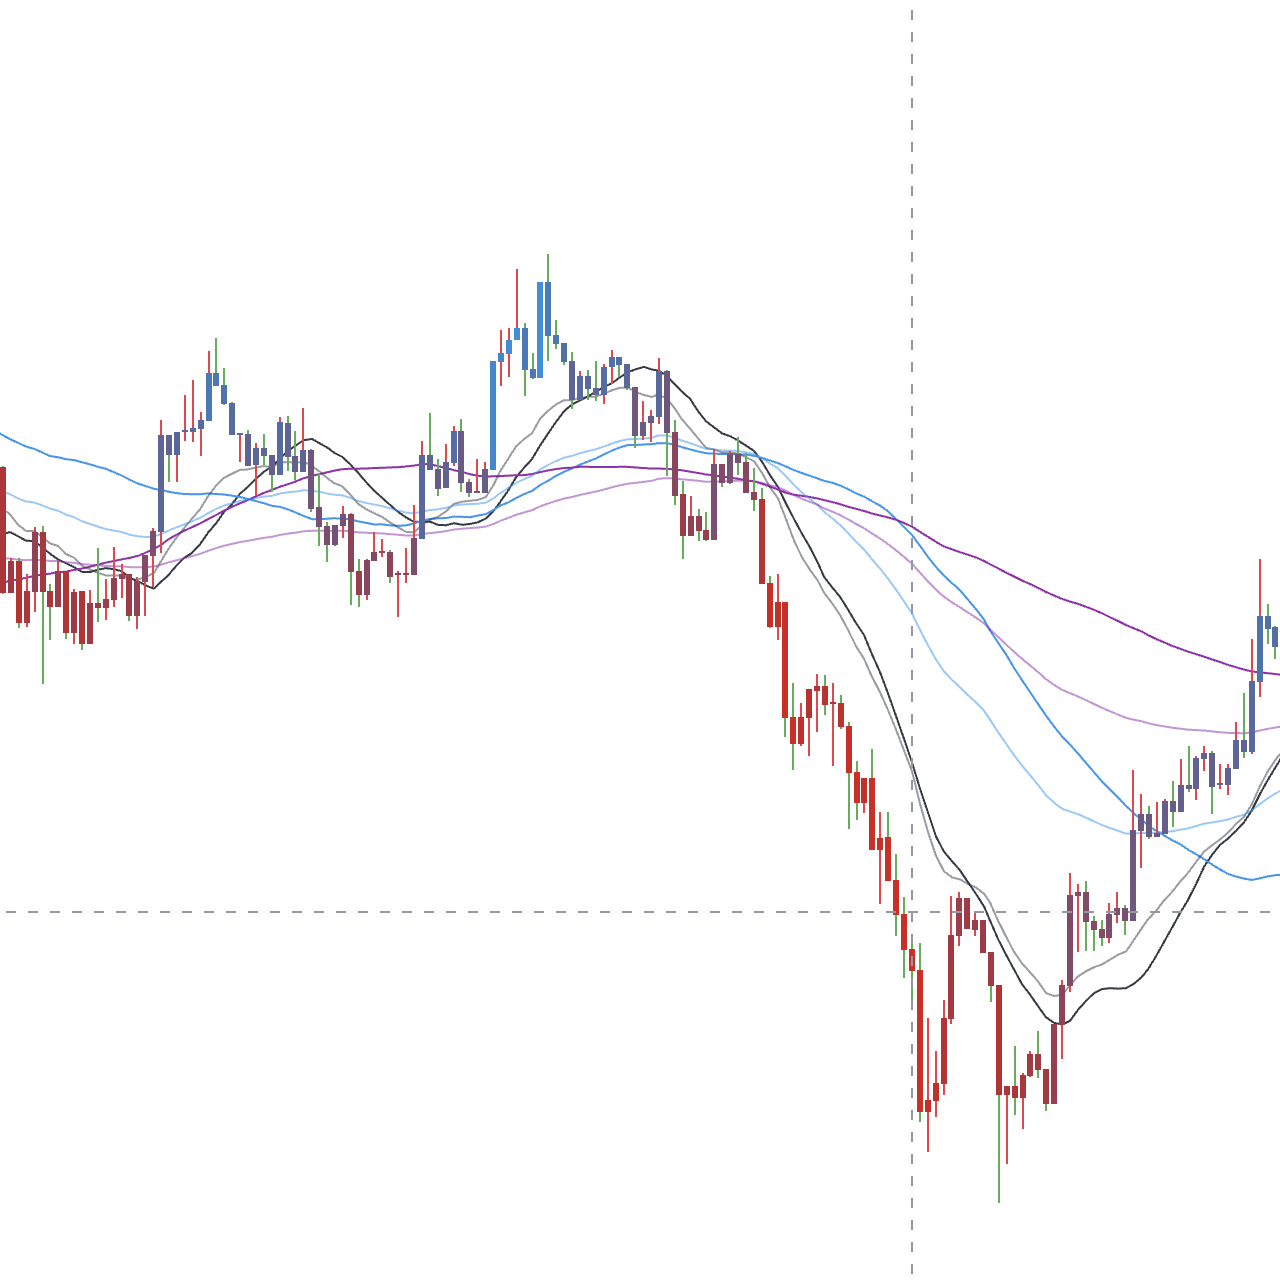ma_cluster: (649, 408, 782, 549)
